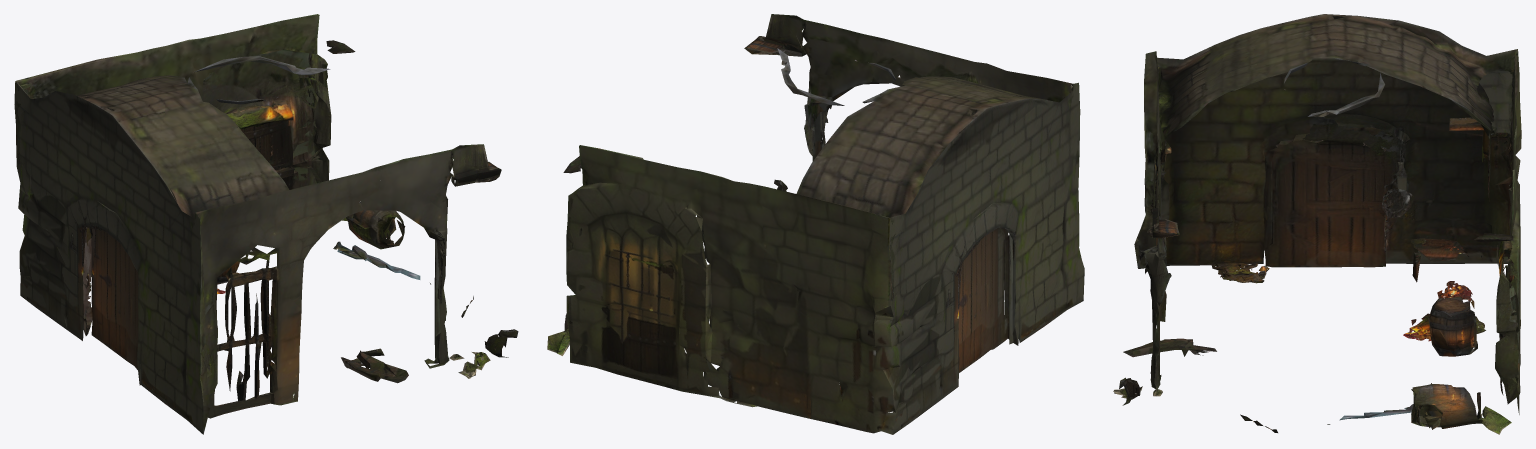
File: dungeon.glb
3 views of the same model, side by side, from view 1: azimuth 30°, elevation 25°; view 2: azimuth 150°, elevation 25°; view 3: azimuth 270°, elevation 25° (orthographic). The views are drawn at different scales.
Visible parts, largest first — view 1: Mesh_0_Material.001_0; view 2: Mesh_0_Material.001_0; view 3: Mesh_0_Material.001_0.
Part boxes in pixels (x1=…): Mesh_0_Material.001_0: x1=14, y1=14, x2=518, y2=434; Mesh_0_Material.001_0: x1=547, y1=14, x2=1084, y2=434; Mesh_0_Material.001_0: x1=1113, y1=14, x2=1521, y2=434.
Bounding box in the file's own units: 1.91 × 1.34 × 1.93.
1 material, 1 textured.
